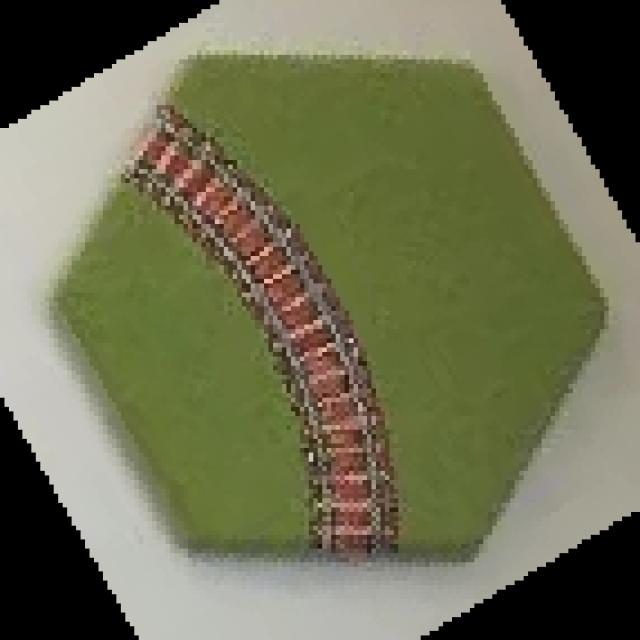2_5: (56, 52, 617, 568)
